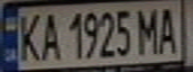1: (63, 8, 84, 60)
2: (100, 7, 118, 58)
5: (115, 6, 136, 57)
9: (81, 8, 100, 60)
A: (36, 9, 63, 61), (154, 3, 181, 54)
K: (15, 9, 45, 62)
M: (136, 3, 163, 56)
